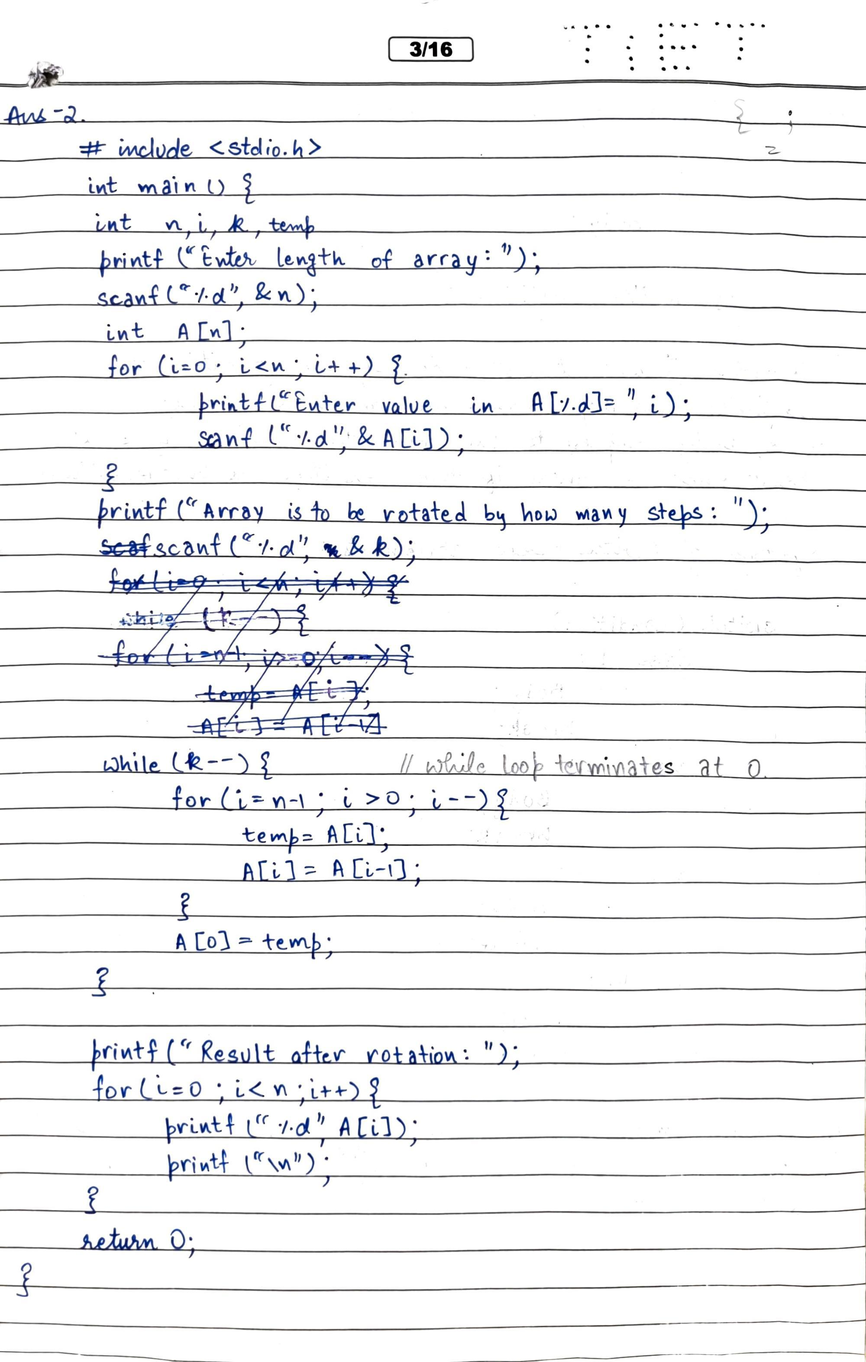cuttings: (103, 567, 415, 741), (97, 531, 151, 558), (322, 542, 343, 559)
